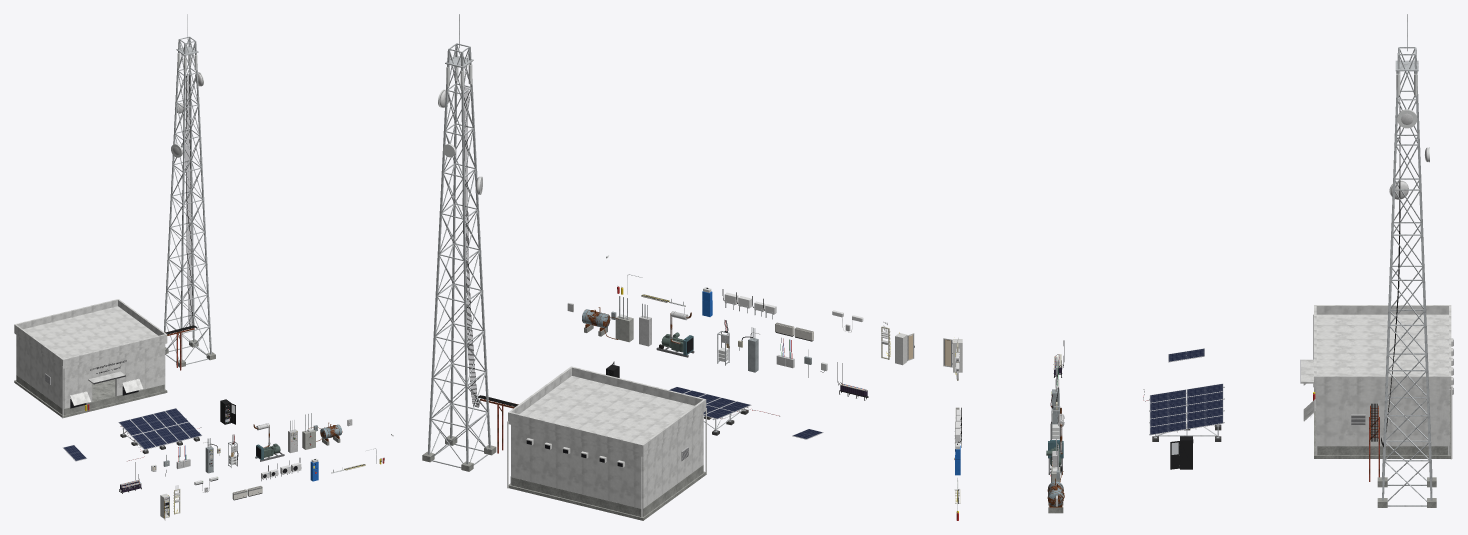
Rendered from SolarRooftop_G6_All_Catalog.fbx.
3 renders of one model, left to right at view 1: azimuth 30°, elevation 25°; view 2: azimuth 150°, elevation 25°; view 3: azimuth 270°, elevation 25°, orthographic. The views are drawn at different scales.
Visible parts, largest first — view 1: Roof_Slab, Side_Wall, Front_Wall_R, Floor_Slab, Parapet, Parapet.001, Leg, Leg.001, Front_Wall_L, Dirt_Front, Leg.003, Leg.002; view 2: Roof_Slab, Back_Wall, Side_Wall, Parapet.001, Parapet, Leg.003, Leg.002, Dirt_Back, Leg, Leg.001, Floor_Slab, Parapet.002 (+1 smaller); view 3: Roof_Slab, Side_Wall.001, Parapet.003, Parapet.002, Dirt_R, Leg.001, Leg.002, Floor_Slab.
Part boxes in pixels (<box>): Roof_Slab: <box>14,306,167,368</box>; Side_Wall: <box>16,335,63,414</box>; Front_Wall_R: <box>115,344,164,396</box>; Floor_Slab: <box>14,379,167,417</box>; Parapet: <box>62,334,167,365</box>; Parapet.001: <box>14,299,118,330</box>; Leg: <box>180,43,186,361</box>; Leg.001: <box>194,41,211,354</box>; Front_Wall_L: <box>63,364,82,414</box>; Dirt_Front: <box>64,384,164,415</box>; Leg.003: <box>164,39,179,332</box>; Leg.002: <box>188,37,194,341</box>; Roof_Slab: <box>508,376,705,456</box>; Back_Wall: <box>511,425,642,516</box>; Side_Wall: <box>642,413,703,516</box>; Parapet.001: <box>508,411,643,453</box>; Parapet: <box>570,366,706,406</box>; Leg.003: <box>461,52,468,464</box>; Leg.002: <box>427,49,450,454</box>; Dirt_Back: <box>511,477,641,516</box>; Leg: <box>468,46,490,447</box>; Leg.001: <box>450,44,457,438</box>; Floor_Slab: <box>508,471,705,520</box>; Parapet.002: <box>642,399,705,453</box>; Roof_Slab: <box>1314,314,1450,389</box>; Side_Wall.001: <box>1317,389,1447,446</box>; Parapet.003: <box>1314,375,1451,385</box>; Parapet.002: <box>1314,305,1451,314</box>; Dirt_R: <box>1317,446,1447,455</box>; Leg.001: <box>1382,54,1399,500</box>; Leg.002: <box>1414,54,1432,500</box>; Floor_Slab: <box>1314,389,1450,458</box>.
Size of the model in its own units: 24.11 by 32.53 by 31.2.
69 materials, 43 textured.
